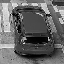motor: (13, 4, 47, 52)
